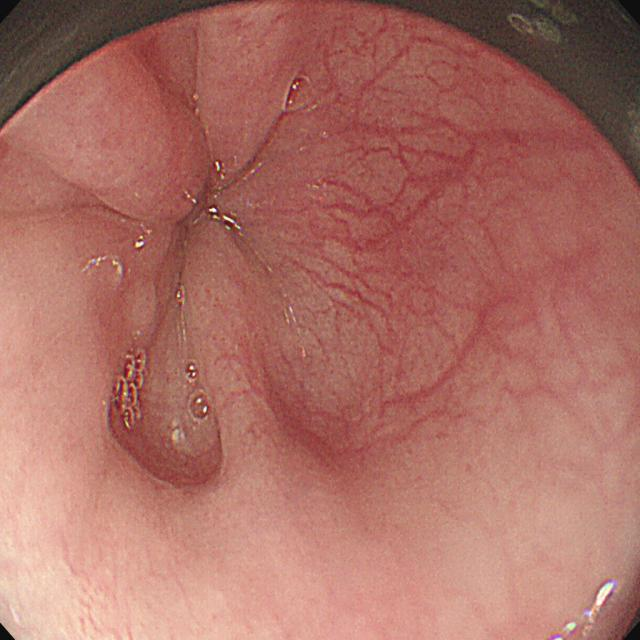I: (93, 86, 313, 314)
T: (115, 350, 149, 431), (187, 357, 213, 425)
U: (555, 579, 617, 640), (202, 203, 249, 237), (132, 224, 157, 253)
